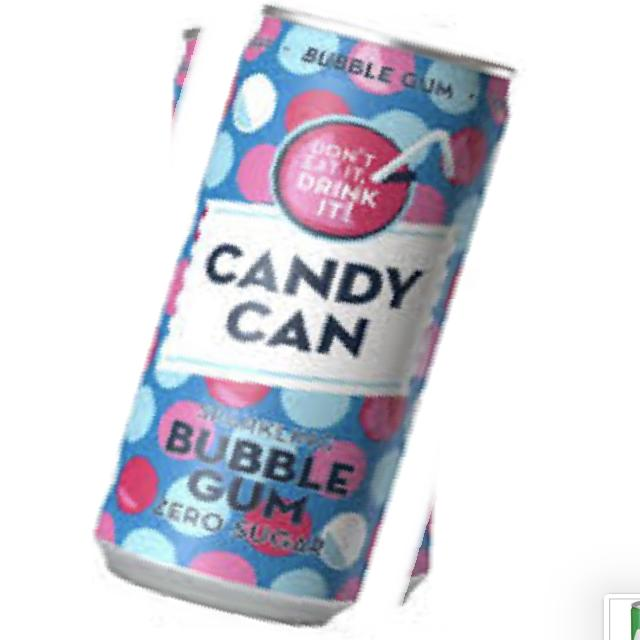recyclable: (92, 0, 538, 640)
